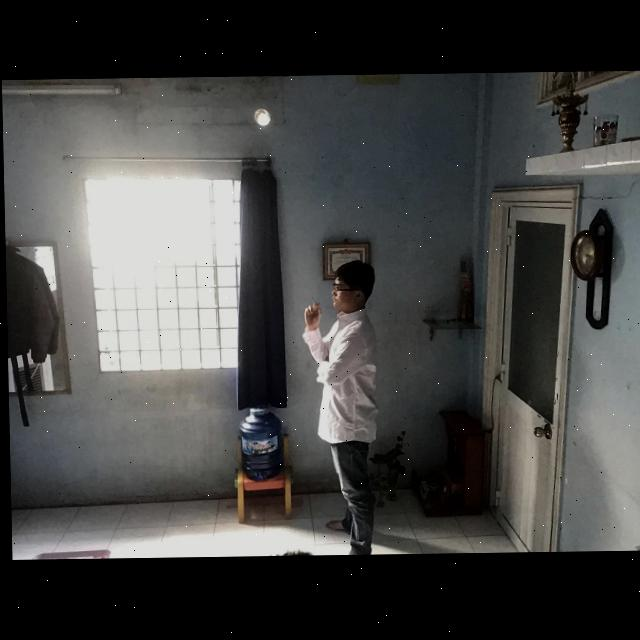cigarette: (309, 297, 315, 304)
